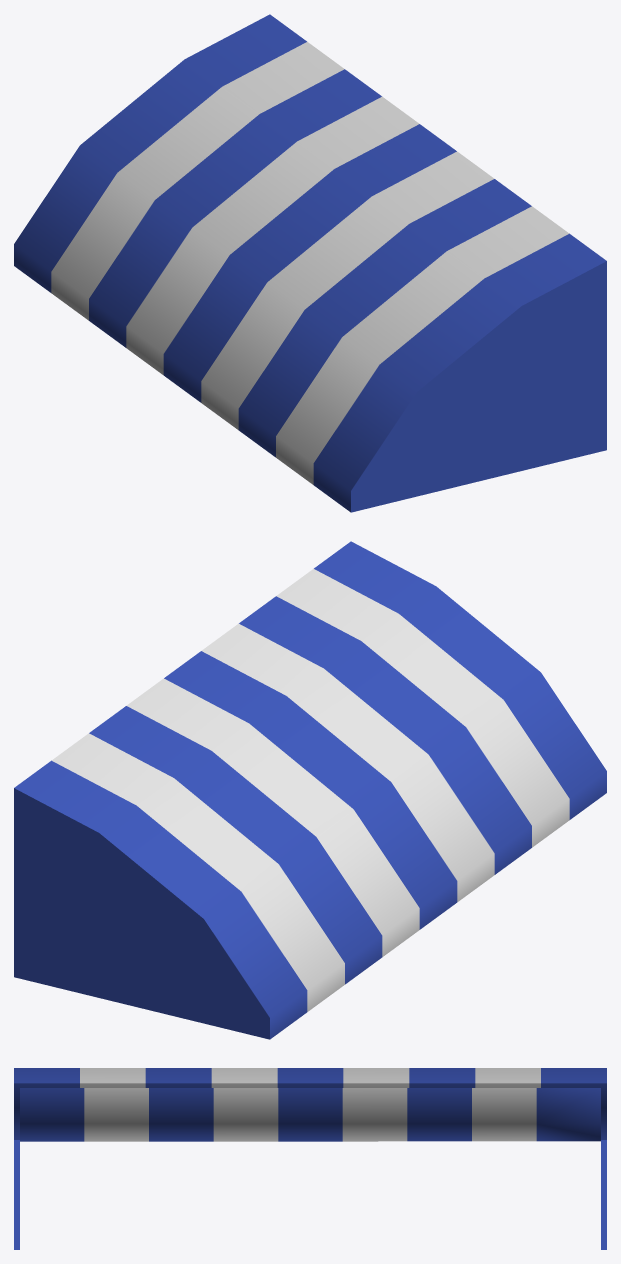
Rendered from Awning_1_O.fbx.
3 views of the same model, one above another, from view 1: azimuth 30°, elevation 25°; view 2: azimuth 150°, elevation 25°; view 3: azimuth 270°, elevation 25° (orthographic). The views are drawn at different scales.
Visible parts, largest first — view 1: Awning_1_O; view 2: Awning_1_O; view 3: Awning_1_O.
Boxes of the visible parts, box(x1,y1,x2,y2) form: Awning_1_O: box(14, 14, 606, 512); Awning_1_O: box(14, 541, 606, 1039); Awning_1_O: box(14, 1068, 606, 1249).
Bounding box in the file's own units: 123 × 86.57 × 280.
